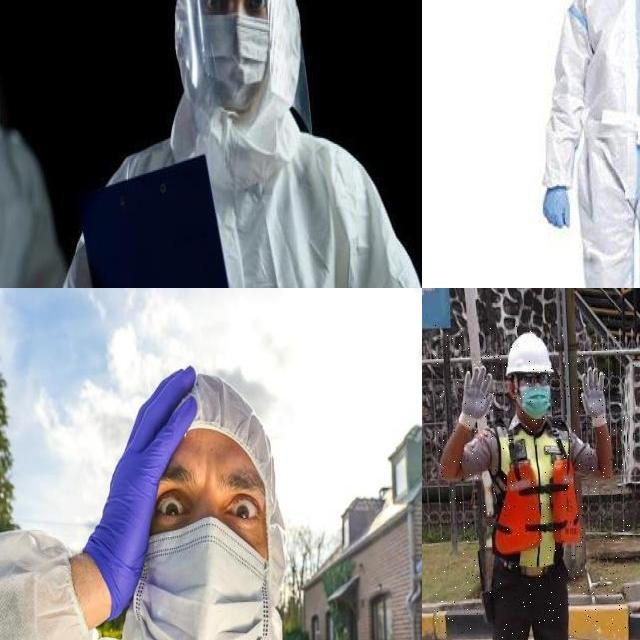GLASS: (517, 372, 552, 388)
GLOVE: (459, 364, 494, 427), (580, 367, 609, 429)
Glove: (85, 361, 198, 628), (541, 182, 571, 232)
HELMET: (507, 334, 555, 378)
MASK: (143, 521, 268, 640), (200, 12, 270, 108)
VEST: (490, 422, 583, 576)
